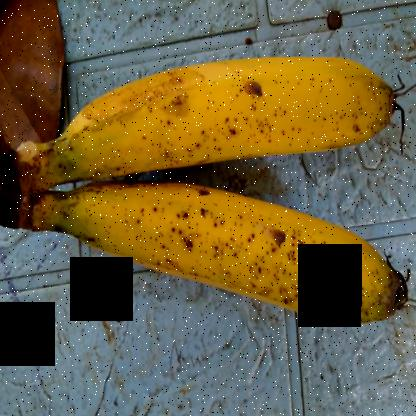ripe: (55, 167, 407, 334), (40, 37, 392, 179)
